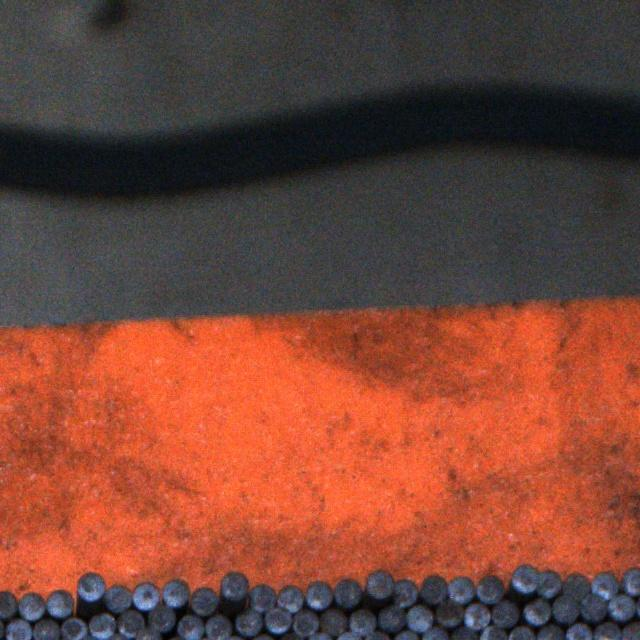tool: (76, 571, 106, 601), (418, 574, 448, 604), (510, 562, 539, 593), (364, 568, 393, 598), (131, 580, 159, 611), (220, 570, 248, 601), (562, 571, 590, 602), (189, 586, 218, 615), (161, 578, 189, 608), (590, 570, 618, 600), (248, 583, 275, 613), (304, 580, 331, 610), (447, 574, 474, 604), (476, 574, 503, 604), (535, 568, 562, 598), (45, 589, 73, 617), (116, 610, 144, 638), (334, 578, 360, 608), (18, 592, 45, 620), (104, 584, 131, 612), (276, 584, 303, 612), (147, 604, 175, 631), (462, 602, 490, 629), (551, 596, 579, 623), (579, 593, 607, 620), (607, 593, 635, 620), (391, 578, 417, 607), (491, 600, 518, 627), (88, 612, 114, 640), (319, 608, 345, 636), (378, 606, 406, 632), (406, 604, 432, 632), (435, 600, 463, 626), (204, 614, 231, 640), (348, 609, 375, 635), (523, 598, 550, 624), (264, 607, 290, 633), (292, 610, 318, 636), (177, 615, 203, 640), (236, 610, 261, 636), (60, 617, 87, 640), (4, 618, 31, 640), (32, 618, 58, 640), (620, 567, 640, 595), (592, 622, 620, 640), (0, 590, 17, 618), (536, 624, 564, 640), (566, 623, 592, 640), (478, 625, 506, 640), (508, 625, 535, 640), (422, 626, 448, 640), (450, 627, 478, 640), (621, 622, 640, 640), (135, 628, 160, 640)
